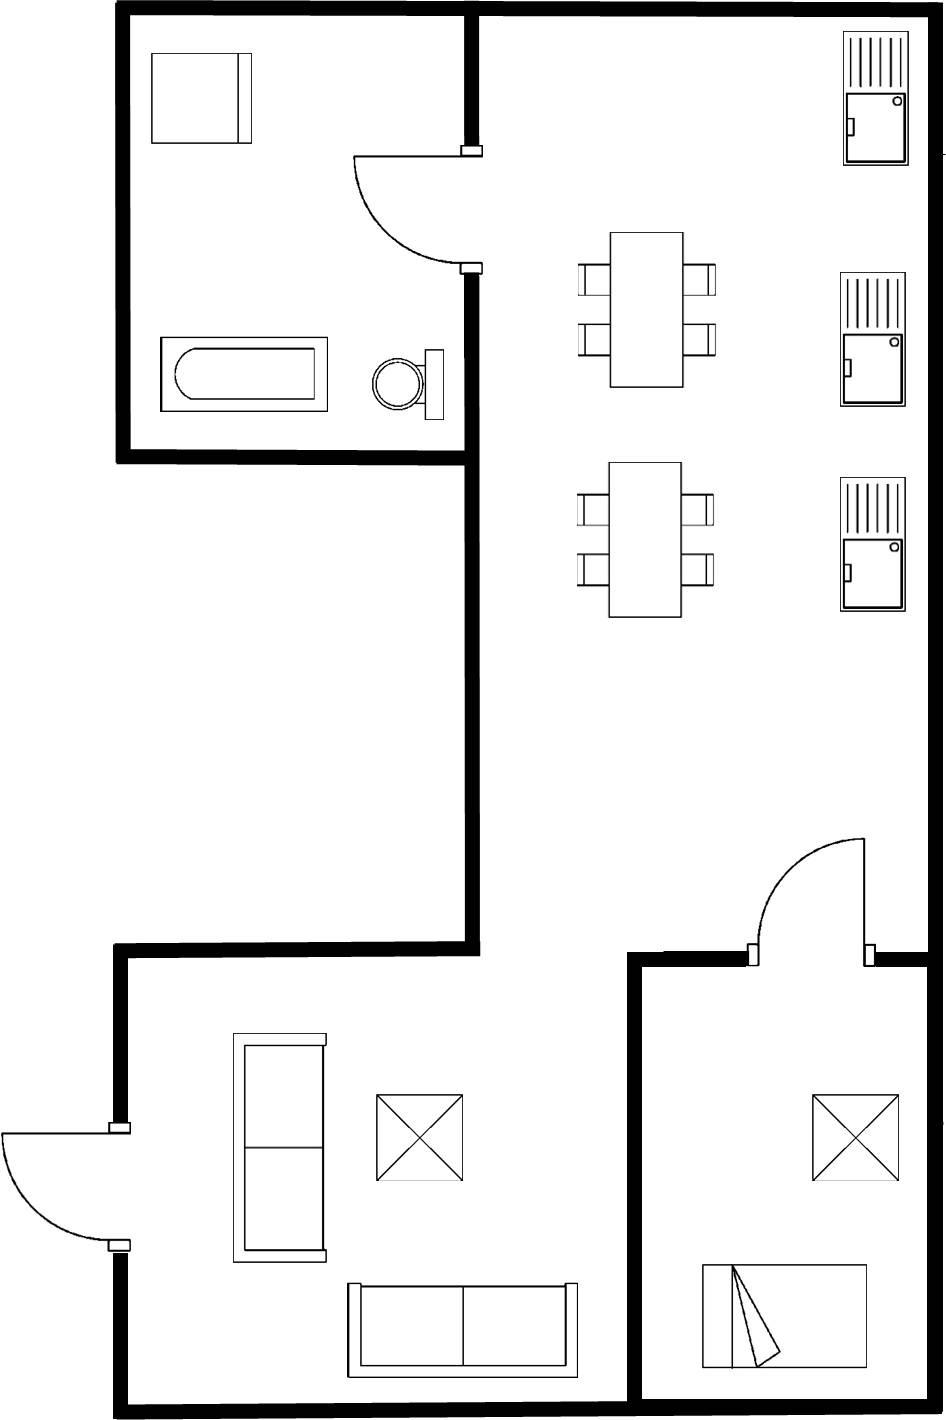bed: (686, 1252, 875, 1381)
dining_table: (571, 225, 726, 398), (568, 449, 722, 623)
sink: (830, 470, 912, 617), (833, 266, 914, 414), (832, 25, 914, 170)
sofa: (219, 1024, 332, 1270), (343, 1275, 582, 1385)
toilet: (365, 342, 451, 430)
tub: (153, 330, 336, 421)
